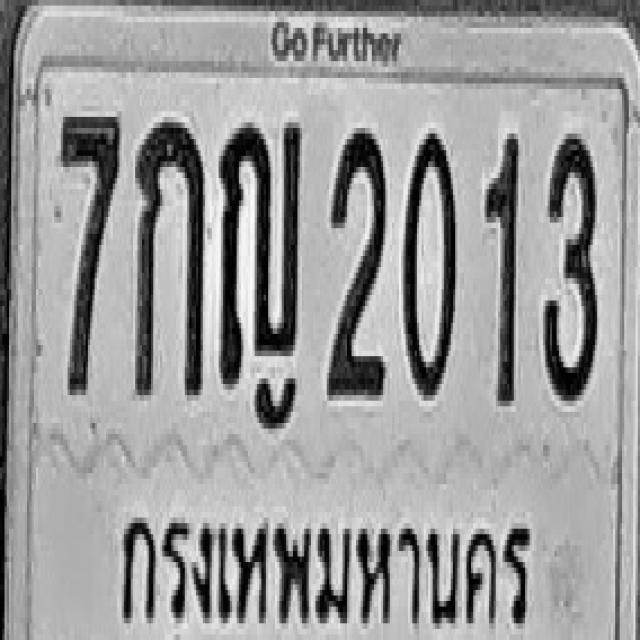0: (402, 128, 457, 395)
1: (484, 131, 518, 403)
10GorGai: (134, 117, 204, 395)
2: (327, 125, 385, 398)
22YorYing: (219, 117, 302, 389)
3: (543, 131, 597, 403)
7: (59, 111, 120, 395)
Bangkok: (119, 489, 536, 640)
